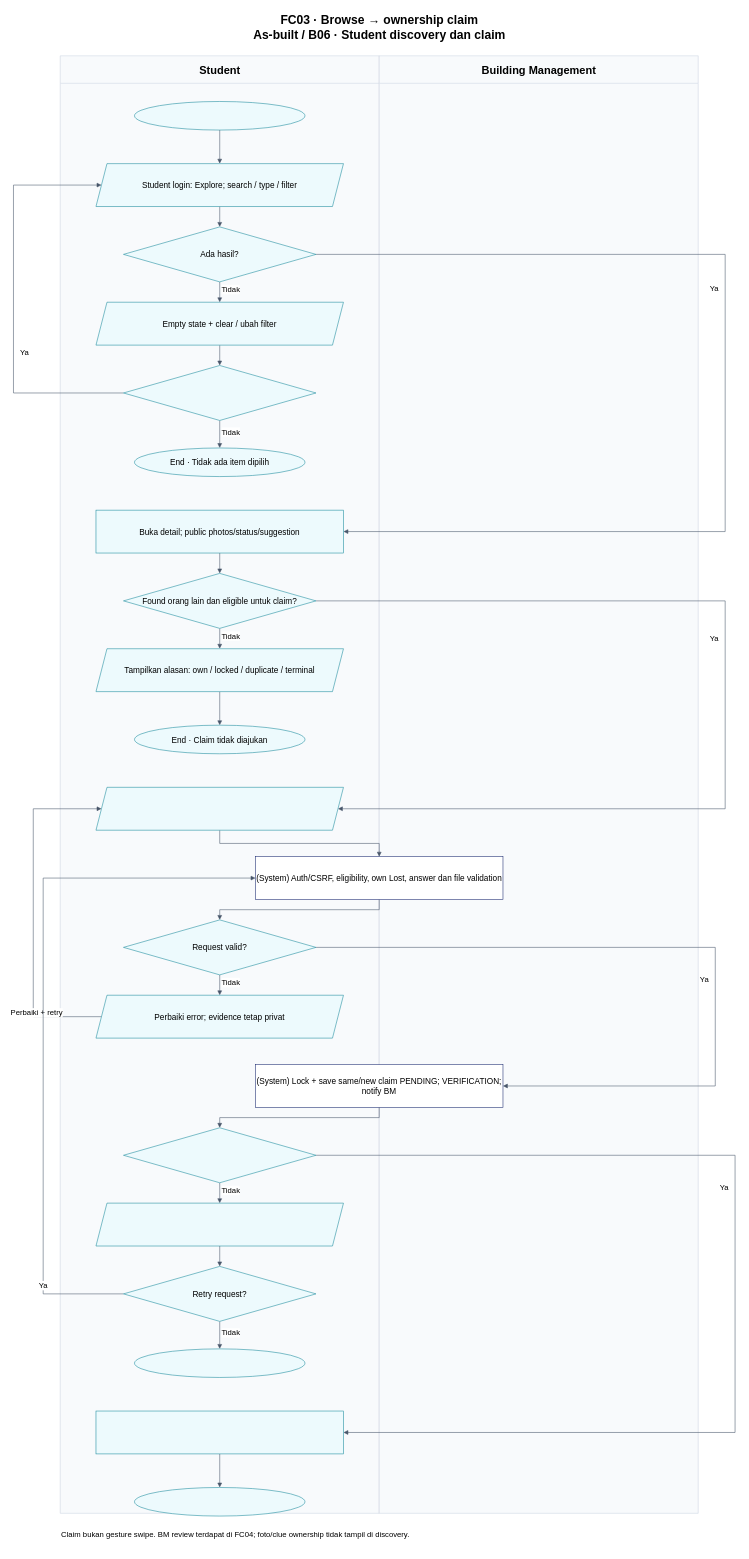
Image size: 749x1559. Some labels were removed from this diagram. The centre of each missing label's shape, as x and y in pixels:
"(System) Rollback; tampilkan error dan draft" belongs at point (219, 1224).
"Cari lagi?" belongs at point (219, 392).
"End · Claim belum tersimpan" belongs at point (219, 1362).
"End · Claim pending" belongs at point (219, 1501).
"My Activity: Claim pending; tunggu review BM (FC04)" belongs at point (219, 1432).
"Start" belongs at point (219, 115).
"Submit eksplisit: identifying answer, own Lost opsional, evidence ≤2" belongs at point (219, 808).
"Transaction berhasil?" belongs at point (219, 1155).
